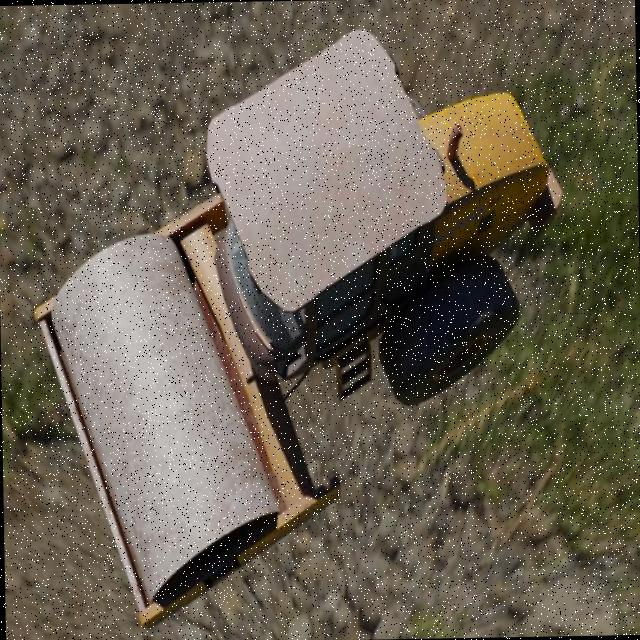Roller: (28, 25, 569, 631)
